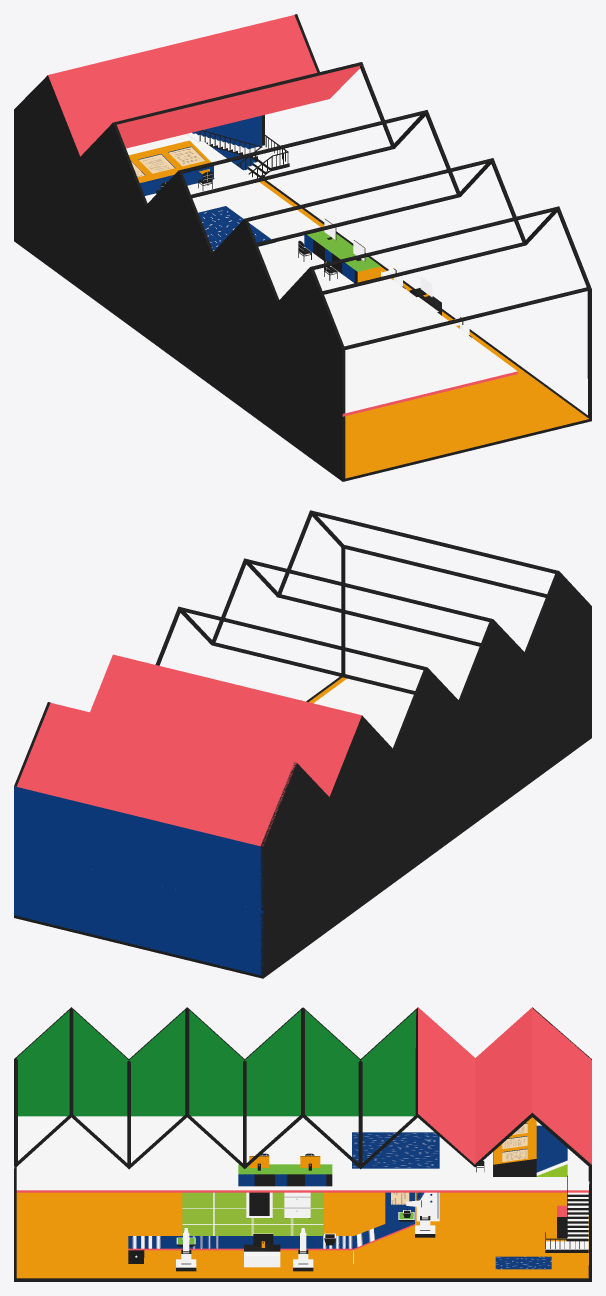
The model's file is 生产工厂1.fbx.
3 renders of one model, top to bottom at view 1: azimuth 30°, elevation 25°; view 2: azimuth 150°, elevation 25°; view 3: azimuth 270°, elevation 25°, orthographic. The views are drawn at different scales.
Visible parts, largest first — view 1: 封顶_1_1, 斜桌, 电脑桌, stairs2, 小地毯; view 2: 封顶_1_1; view 3: 封顶_1_1, 大地毯, 折型桌子, 小地毯, 电脑桌, 斜桌, stairs2, 大地毯_, L形操作台, 小地毯_2, 左_箱子1, 右_箱子 (+4 smaller).
Part boxes in pixels (x1=…): 封顶_1_1: x1=14, y1=14, x2=591, y2=481; 斜桌: x1=129, y1=140, x2=213, y2=185; 电脑桌: x1=304, y1=230, x2=380, y2=283; stairs2: x1=187, y1=130, x2=289, y2=178; 小地毯: x1=198, y1=206, x2=275, y2=251; 封顶_1_1: x1=14, y1=510, x2=591, y2=978; 封顶_1_1: x1=14, y1=1007, x2=591, y2=1281; 大地毯: x1=182, y1=1192, x2=323, y2=1235; 折型桌子: x1=128, y1=1192, x2=414, y2=1263; 小地毯: x1=352, y1=1132, x2=439, y2=1168; 电脑桌: x1=238, y1=1164, x2=332, y2=1186; 斜桌: x1=493, y1=1117, x2=536, y2=1176; stairs2: x1=545, y1=1175, x2=588, y2=1252; 大地毯_: x1=493, y1=1125, x2=567, y2=1176; L形操作台: x1=244, y1=1244, x2=280, y2=1267; 小地毯_2: x1=495, y1=1256, x2=551, y2=1269; 左_箱子1: x1=284, y1=1192, x2=310, y2=1217; 右_箱子: x1=246, y1=1192, x2=272, y2=1217.
Bounding box in the file's own units: 1415 × 1027 × 3200.
